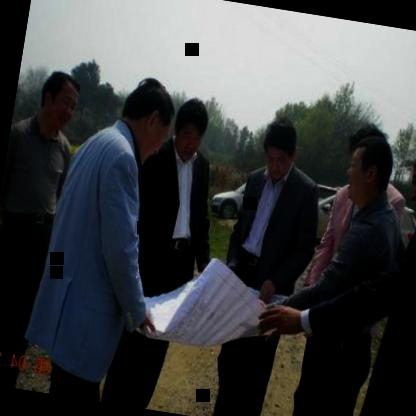head: (113, 71, 178, 162), (341, 128, 399, 208), (34, 66, 84, 140), (166, 93, 214, 164), (256, 112, 304, 183), (402, 122, 416, 221)
